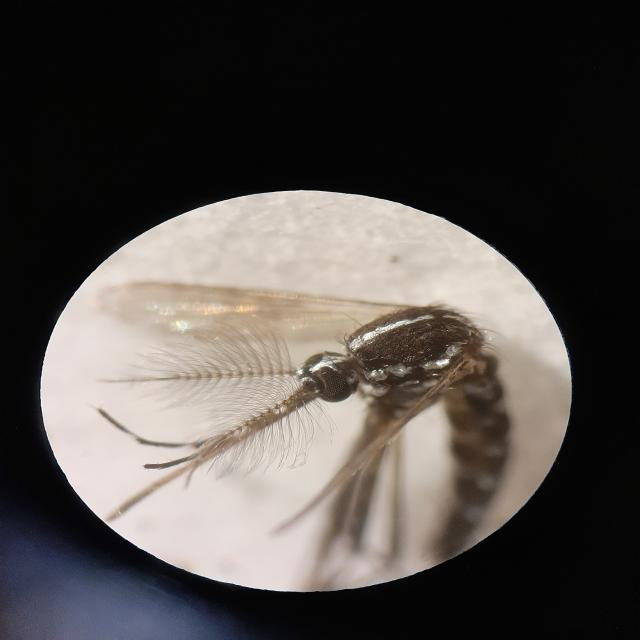albopictus: (38, 279, 522, 567)
